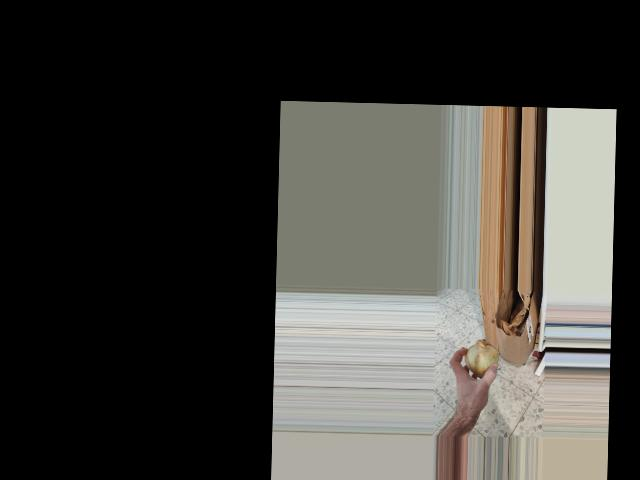onion: (464, 339, 499, 383)
